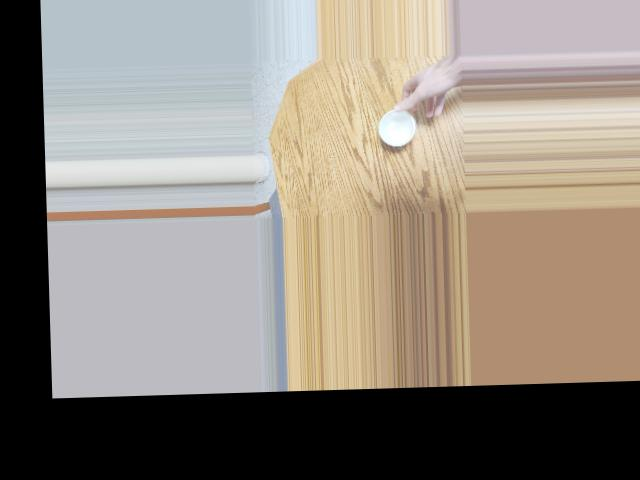cotage: (373, 102, 420, 149)
